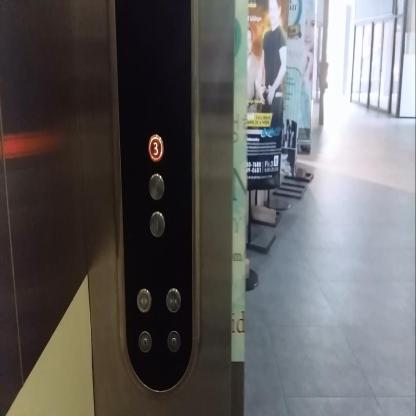1: (149, 211, 165, 239)
2: (149, 174, 164, 199)
3: (148, 132, 164, 162)
close: (166, 288, 181, 314)
keyhole: (167, 329, 181, 353), (138, 331, 152, 353)
open: (136, 287, 152, 313)
